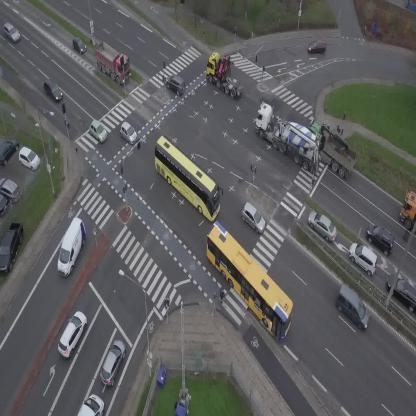bicycle: (216, 288, 227, 310)
bus: (189, 220, 307, 342), (140, 134, 234, 223)
car: (328, 283, 378, 331), (53, 308, 91, 359), (97, 337, 130, 388), (343, 239, 384, 278), (360, 219, 401, 257), (303, 207, 343, 244), (235, 201, 271, 235), (115, 120, 141, 146), (85, 118, 111, 144), (162, 72, 189, 97), (40, 77, 65, 104), (0, 21, 22, 45), (68, 34, 89, 57), (308, 39, 326, 53)
lorry: (243, 100, 335, 176), (301, 115, 364, 181), (197, 46, 255, 101), (85, 36, 139, 87), (50, 216, 92, 278), (400, 191, 416, 232), (78, 394, 104, 416)
